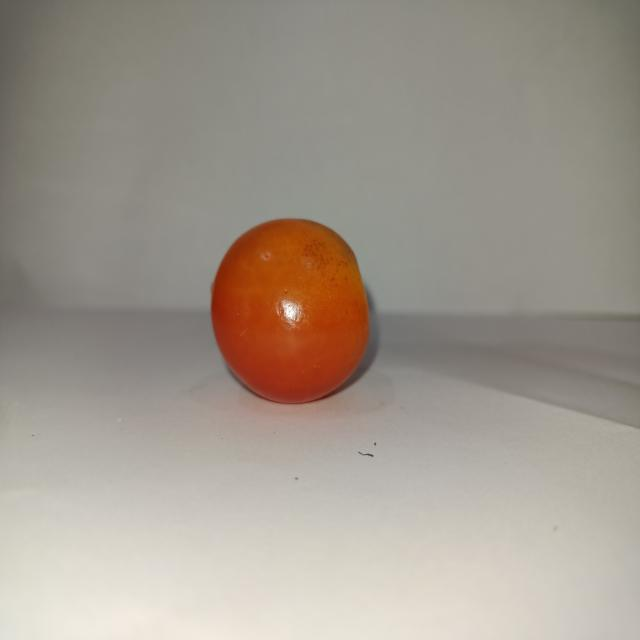Red: (209, 216, 371, 404)
